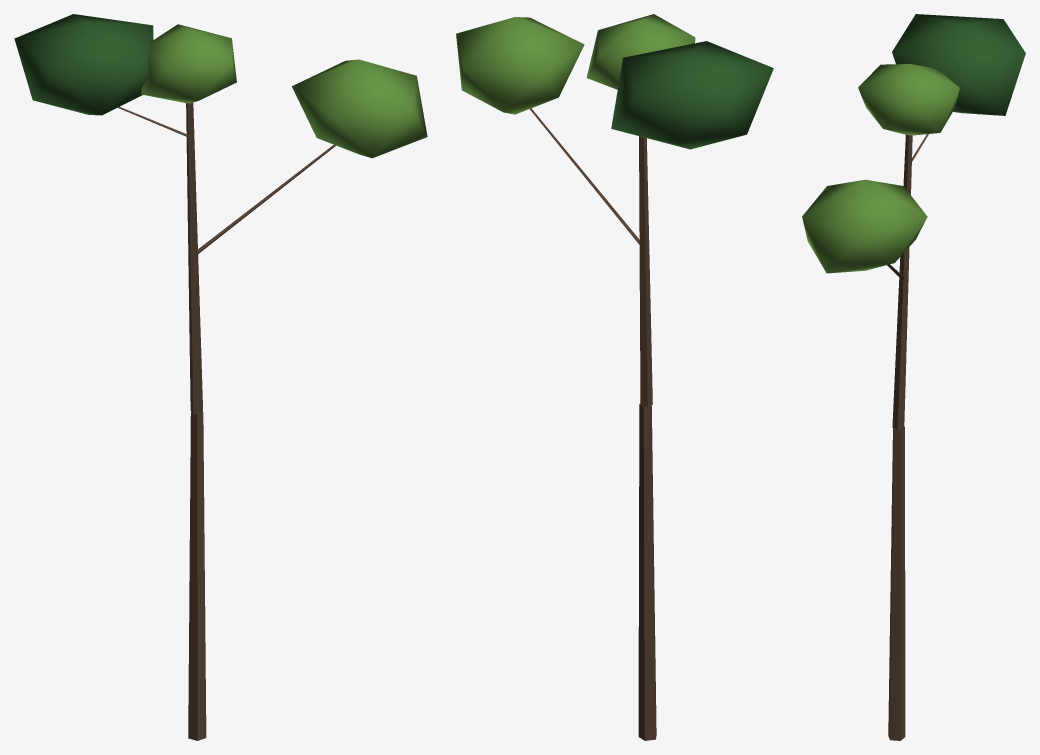
The model's file is v15-pohon-lurus-lod.glb.
The picture shows the model from 3 angles, left to right: view 1: azimuth 30°, elevation 25°; view 2: azimuth 150°, elevation 25°; view 3: azimuth 270°, elevation 25°; orthographic projection. The views are drawn at different scales.
Parts seen in each view (by area): view 1: EX_unri:daun-terang.002, EX_unri:daun-gelap.002, EX_unri:kulit-kayu.002; view 2: EX_unri:daun-gelap.002, EX_unri:daun-terang.002, EX_unri:kulit-kayu.002; view 3: EX_unri:daun-terang.002, EX_unri:daun-gelap.002, EX_unri:kulit-kayu.002.
Part boxes in pixels (left/top/right/bottom): EX_unri:daun-terang.002: left=141, top=24, right=427, bottom=158; EX_unri:daun-gelap.002: left=14, top=14, right=153, bottom=115; EX_unri:kulit-kayu.002: left=118, top=102, right=335, bottom=740; EX_unri:daun-gelap.002: left=611, top=41, right=773, bottom=149; EX_unri:daun-terang.002: left=456, top=14, right=695, bottom=114; EX_unri:kulit-kayu.002: left=529, top=107, right=656, bottom=740; EX_unri:daun-terang.002: left=802, top=64, right=959, bottom=273; EX_unri:daun-gelap.002: left=892, top=14, right=1025, bottom=115; EX_unri:kulit-kayu.002: left=887, top=134, right=928, bottom=740.
Size of the model in its own units: 9.75 by 19.61 by 5.87.
